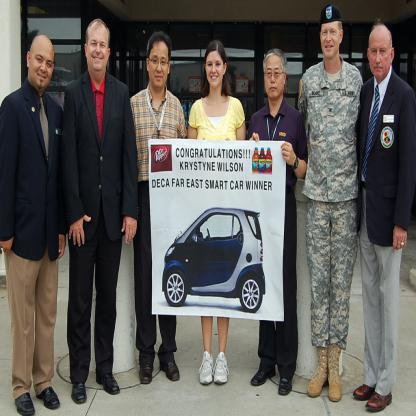car: (155, 208, 268, 328)
